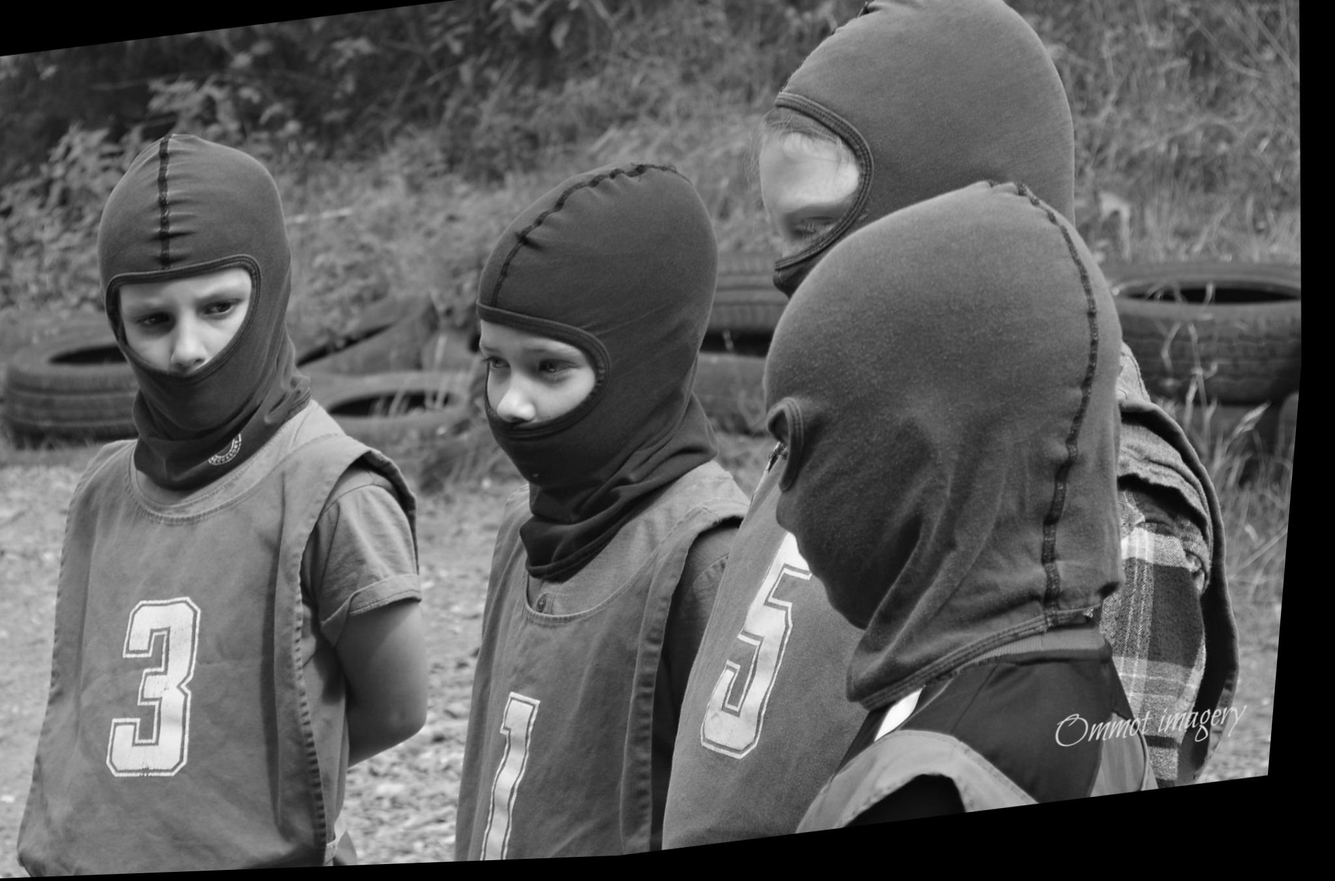OK: (754, 170, 928, 398)
WRONG: (473, 321, 626, 504), (112, 281, 274, 427)
